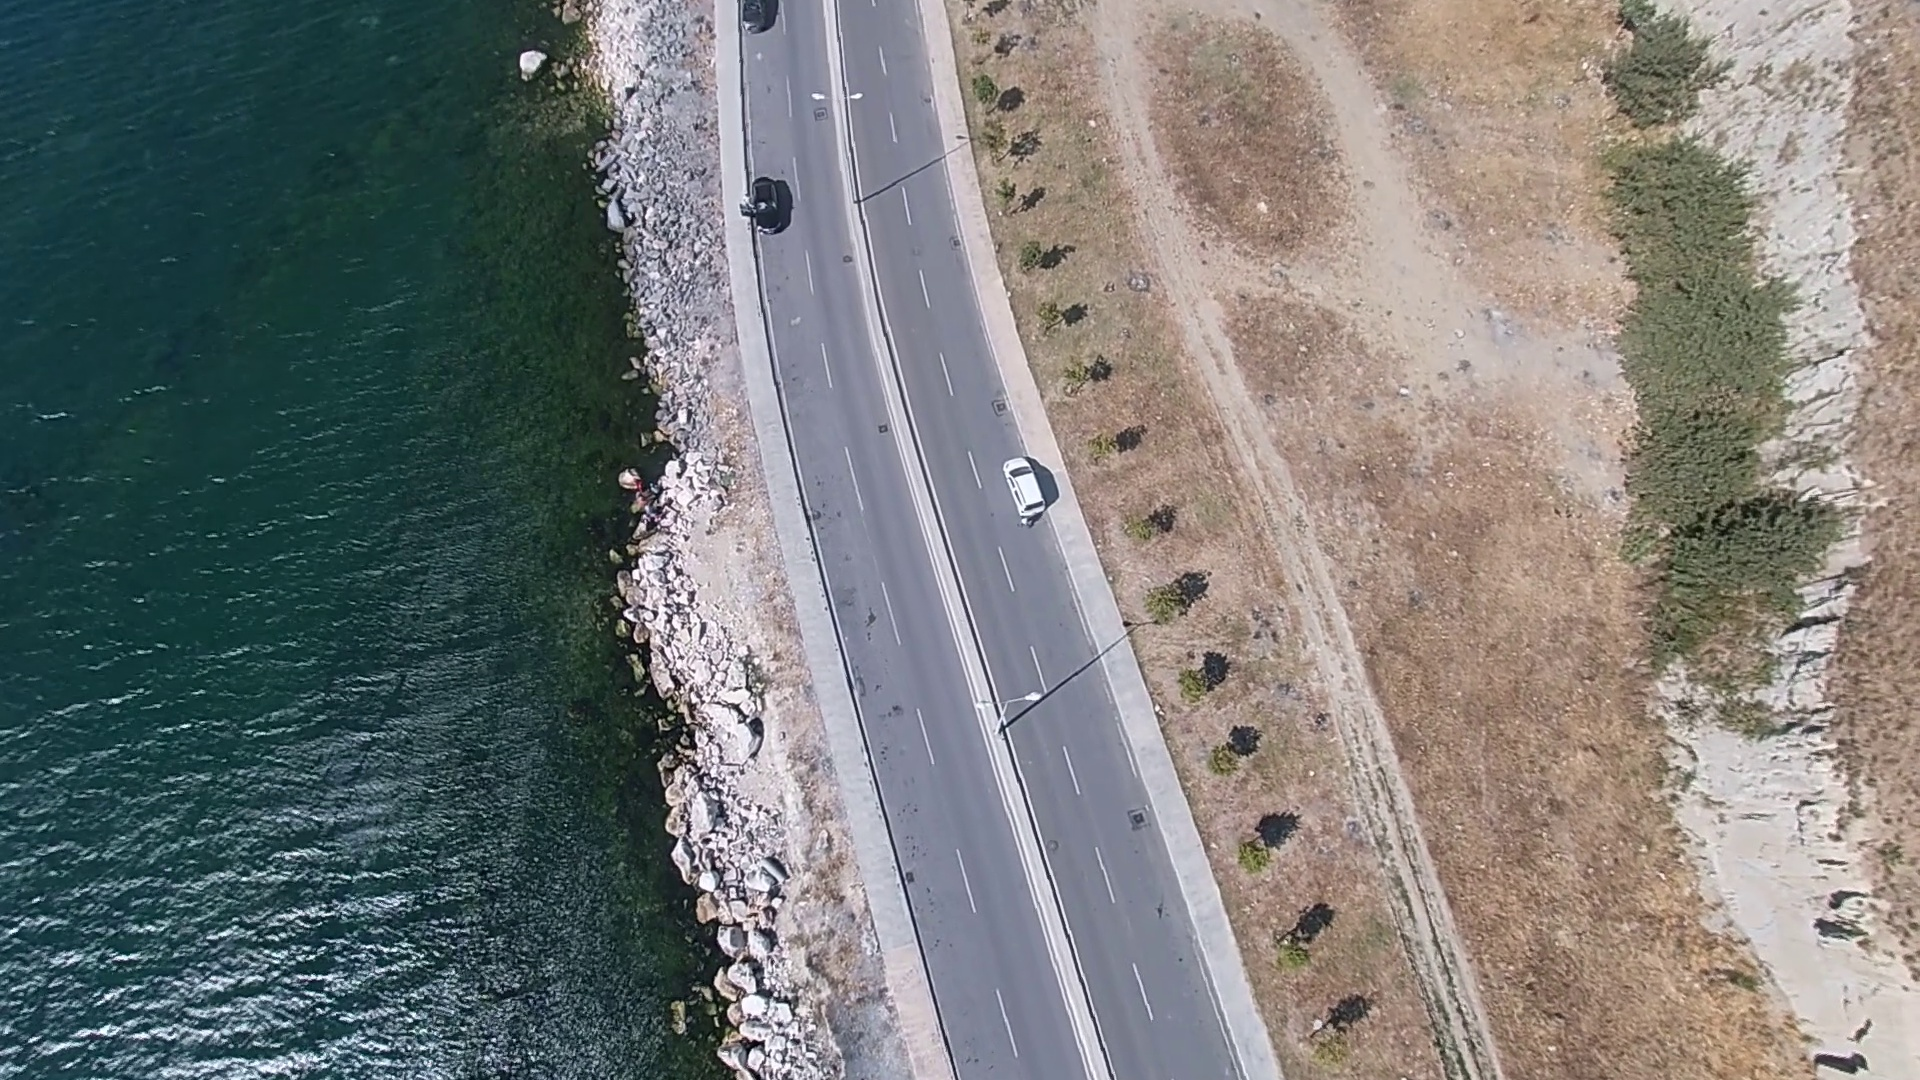arac: (996, 444, 1048, 530), (731, 178, 783, 239)
